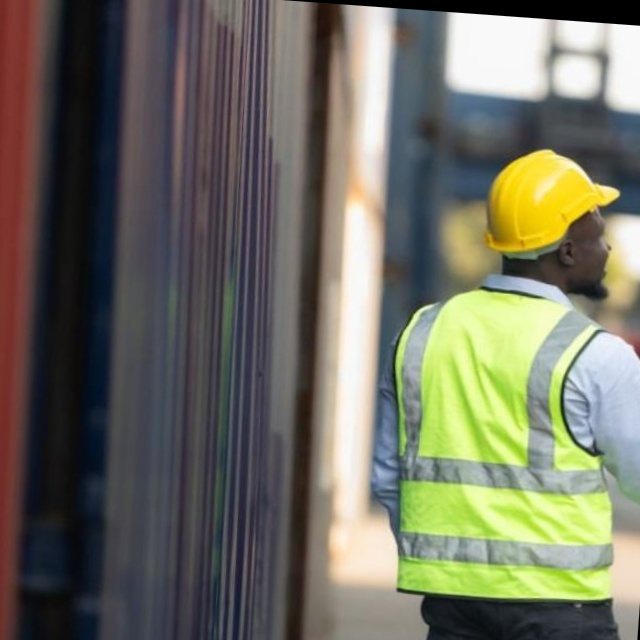Con_Casco: (482, 144, 626, 300)
Con_Chaleco: (375, 277, 632, 606)
